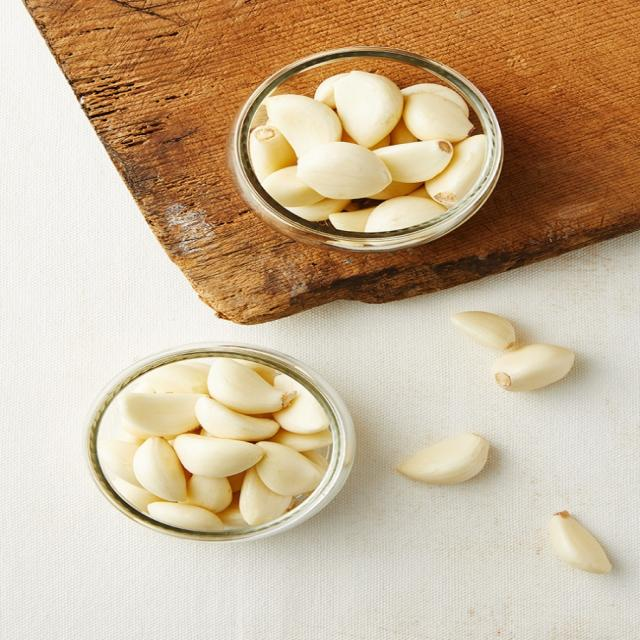garlic: (246, 66, 492, 239), (106, 363, 338, 530), (453, 308, 576, 395), (400, 431, 497, 491), (548, 512, 619, 581)
